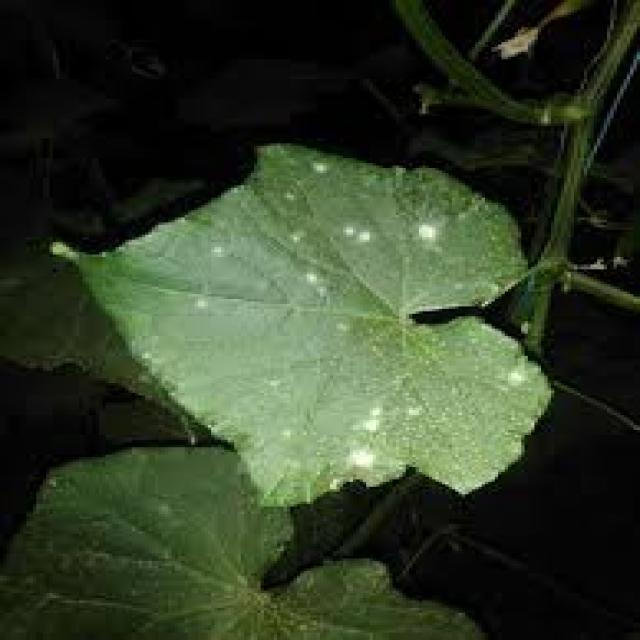powdery-mildew: (279, 220, 462, 278), (345, 399, 429, 472)
